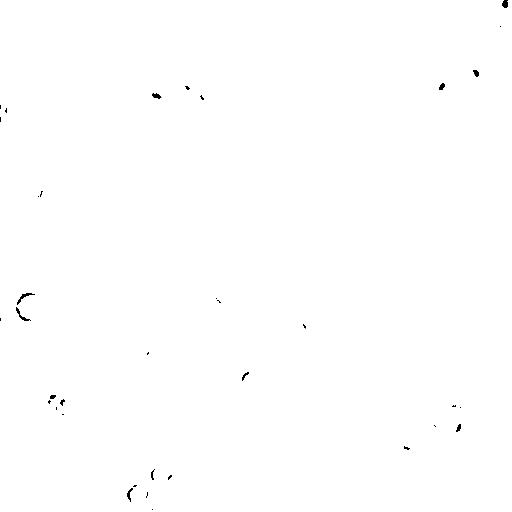micro-algae: (413, 413, 476, 473), (186, 47, 233, 91), (327, 411, 373, 452), (165, 77, 205, 112), (432, 406, 471, 437), (484, 0, 511, 43), (14, 291, 44, 322), (269, 178, 298, 210), (203, 30, 237, 57), (190, 0, 221, 29), (417, 0, 454, 23), (281, 463, 309, 493), (146, 328, 177, 355), (459, 57, 487, 85), (301, 307, 330, 334), (118, 393, 146, 420), (139, 45, 167, 71), (211, 280, 237, 308), (396, 423, 422, 451), (112, 274, 141, 298), (122, 461, 146, 488), (368, 197, 392, 222), (428, 73, 452, 98), (149, 464, 175, 487), (380, 317, 403, 343), (126, 482, 149, 507), (239, 367, 261, 392), (488, 325, 511, 348), (142, 77, 161, 103), (53, 400, 75, 421), (393, 500, 435, 511), (136, 298, 155, 322), (43, 390, 65, 410), (445, 1, 477, 14), (485, 1, 512, 16), (201, 86, 220, 107), (379, 160, 400, 179), (5, 135, 25, 154), (275, 313, 294, 333), (247, 145, 266, 163), (55, 0, 83, 12), (150, 499, 171, 512), (32, 180, 47, 198), (133, 343, 151, 358), (253, 454, 269, 470), (0, 97, 9, 125)
